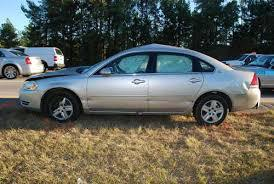doorouter-dent: (151, 78, 192, 115)
fender-dent: (72, 79, 89, 109)
quaterpanel-dent: (210, 70, 251, 96)
